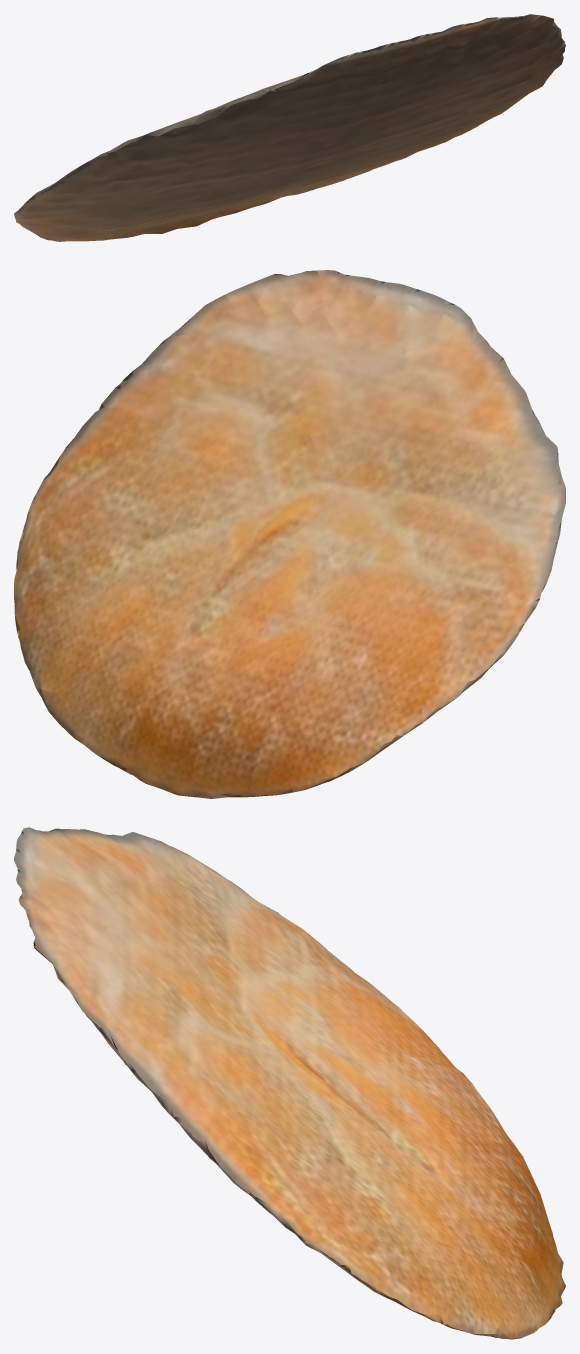
The model's file is pan_chapla.glb.
3 views of the same model, one above another, from view 1: azimuth 30°, elevation 25°; view 2: azimuth 150°, elevation 25°; view 3: azimuth 270°, elevation 25° (orthographic). The views are drawn at different scales.
Parts seen in each view (by area): view 1: world; view 2: world; view 3: world.
Boxes of the visible parts, x1=… form: world: x1=14, y1=14, x2=565, y2=241; world: x1=14, y1=270, x2=565, y2=798; world: x1=14, y1=827, x2=565, y2=1339.
Size of the model in its own units: 0.6345 by 0.421 by 0.4931.
Materials: 1 (1 with a texture image).
